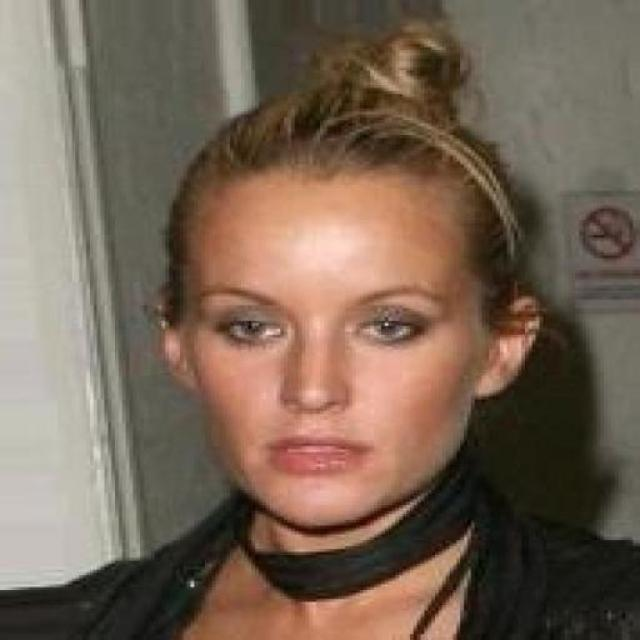bareface: (193, 80, 523, 510)
